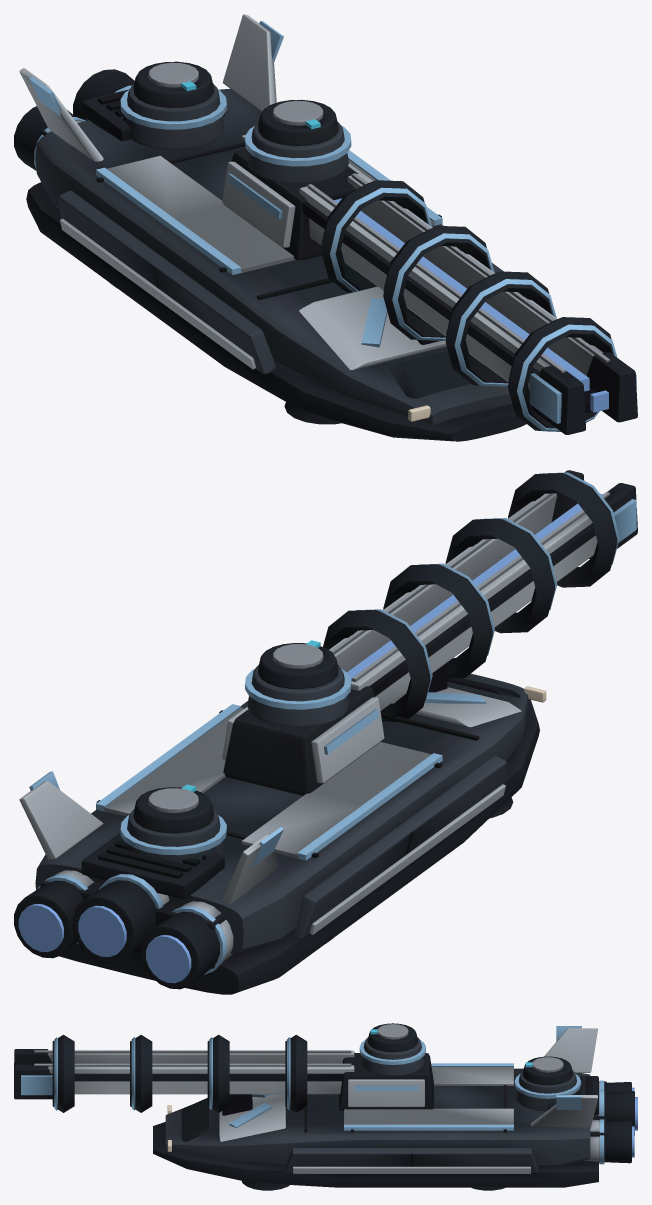
The model's file is ex_lancer_3.glb.
3 views of the same model, one above another, from view 1: azimuth 30°, elevation 25°; view 2: azimuth 150°, elevation 25°; view 3: azimuth 270°, elevation 25° (orthographic). The views are drawn at different scales.
Visible parts, largest first — view 1: body; view 2: body; view 3: body.
Part boxes in pixels (<box>): body: <box>14,14,637,441</box>; body: <box>14,470,637,994</box>; body: <box>14,1023,637,1190</box>.
Size of the model in its own units: 3.36 by 2.56 by 11.22.
